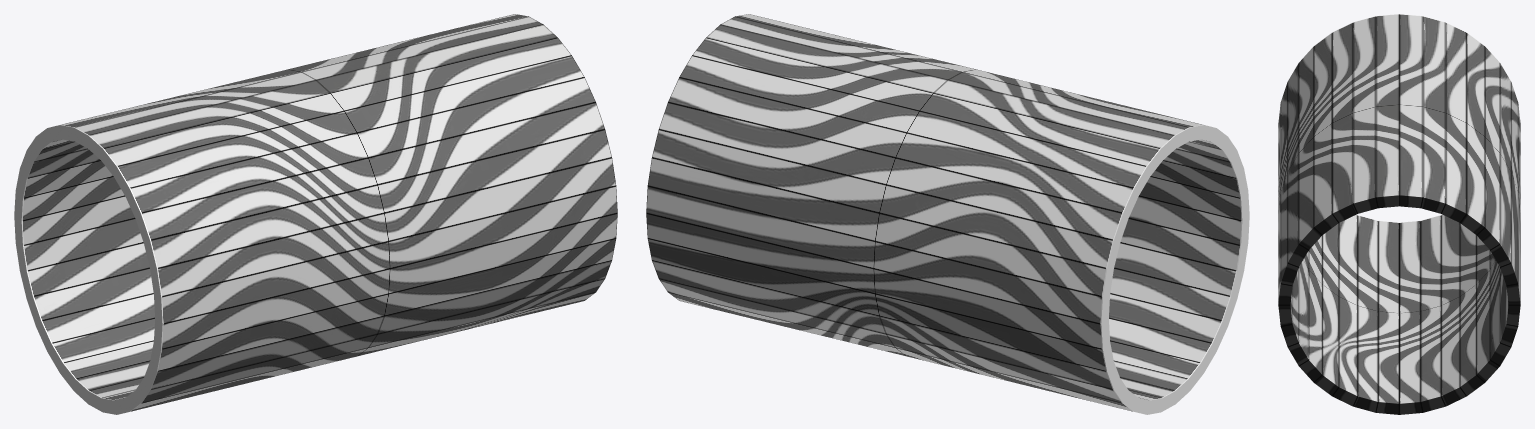
Rendered from Tunnel1Part1.fbx.
The picture shows the model from 3 angles, left to right: view 1: azimuth 30°, elevation 25°; view 2: azimuth 150°, elevation 25°; view 3: azimuth 270°, elevation 25°; orthographic projection. The views are drawn at different scales.
Parts seen in each view (by area): view 1: Tunnel 1; view 2: Tunnel 1; view 3: Tunnel 1.
Part boxes in pixels (x1,y1,x2,y2): Tunnel 1: [14, 14, 617, 414]; Tunnel 1: [646, 14, 1249, 414]; Tunnel 1: [1278, 14, 1520, 414].
Size of the model in its own units: 354 by 200 by 200.
1 material, 1 textured.
